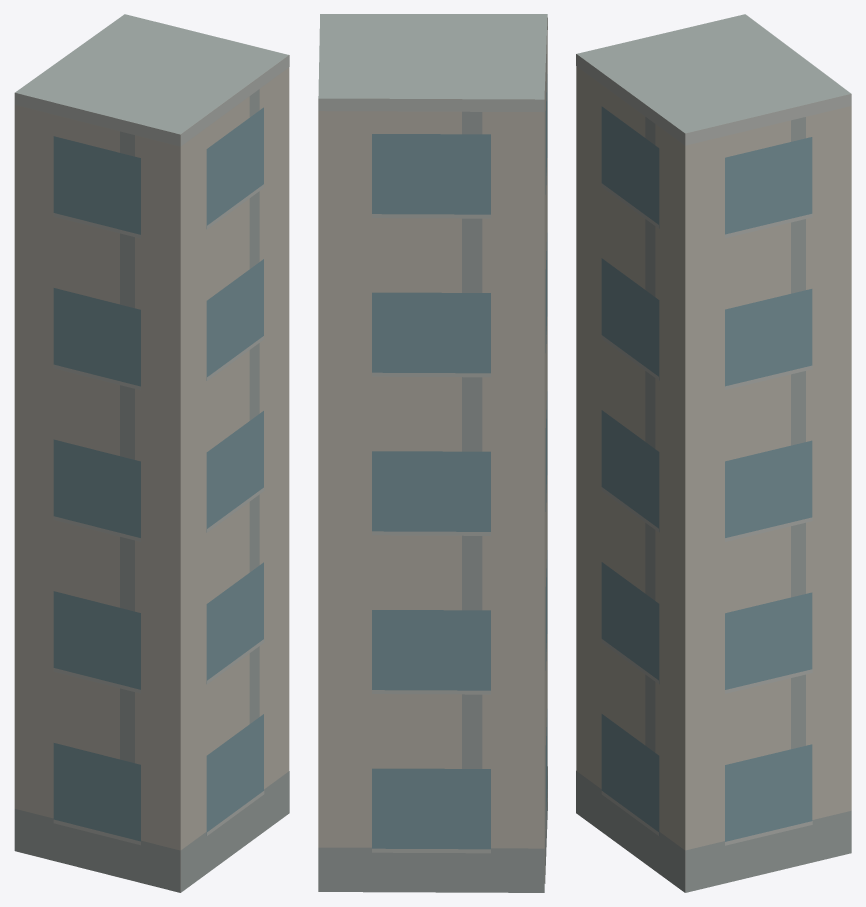
Rendered from survey-upis-32706634.glb.
3 renders of one model, left to right at view 1: azimuth 30°, elevation 25°; view 2: azimuth 150°, elevation 25°; view 3: azimuth 270°, elevation 25°, orthographic. The views are drawn at different scales.
Parts seen in each view (by area): view 1: survey-upis-32706634.tmp; view 2: survey-upis-32706634.tmp; view 3: survey-upis-32706634.tmp.
Part boxes in pixels (left/top/right/bottom): survey-upis-32706634.tmp: left=14, top=14, right=289, bottom=892; survey-upis-32706634.tmp: left=318, top=14, right=547, bottom=892; survey-upis-32706634.tmp: left=576, top=14, right=851, bottom=892.
Size of the model in its own units: 5.16 by 15.25 by 5.02.
